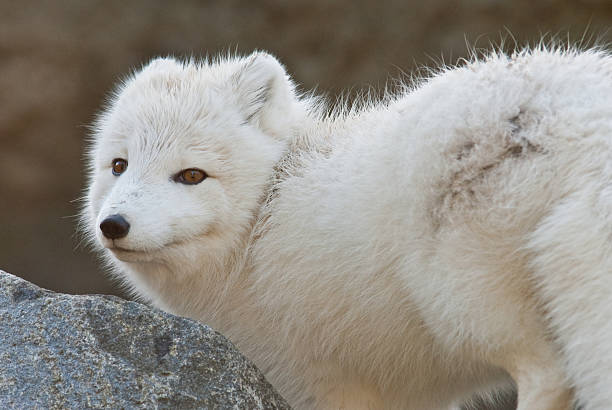arcticfox: (84, 106, 261, 278)
